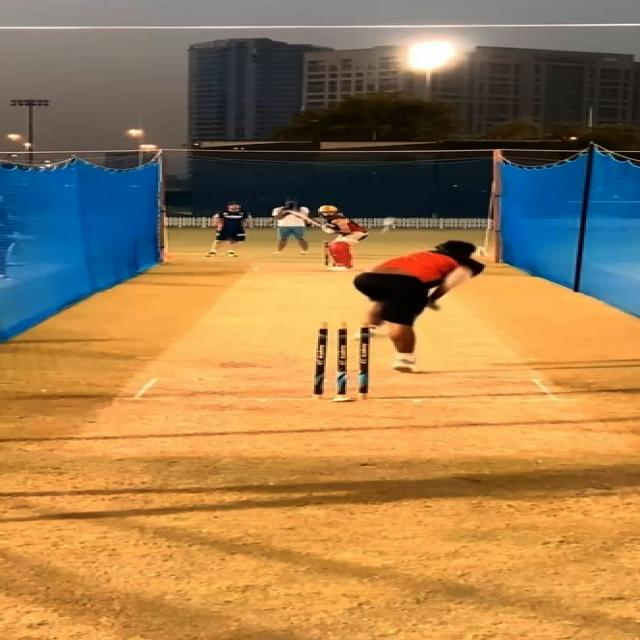batsman: (284, 204, 371, 271)
